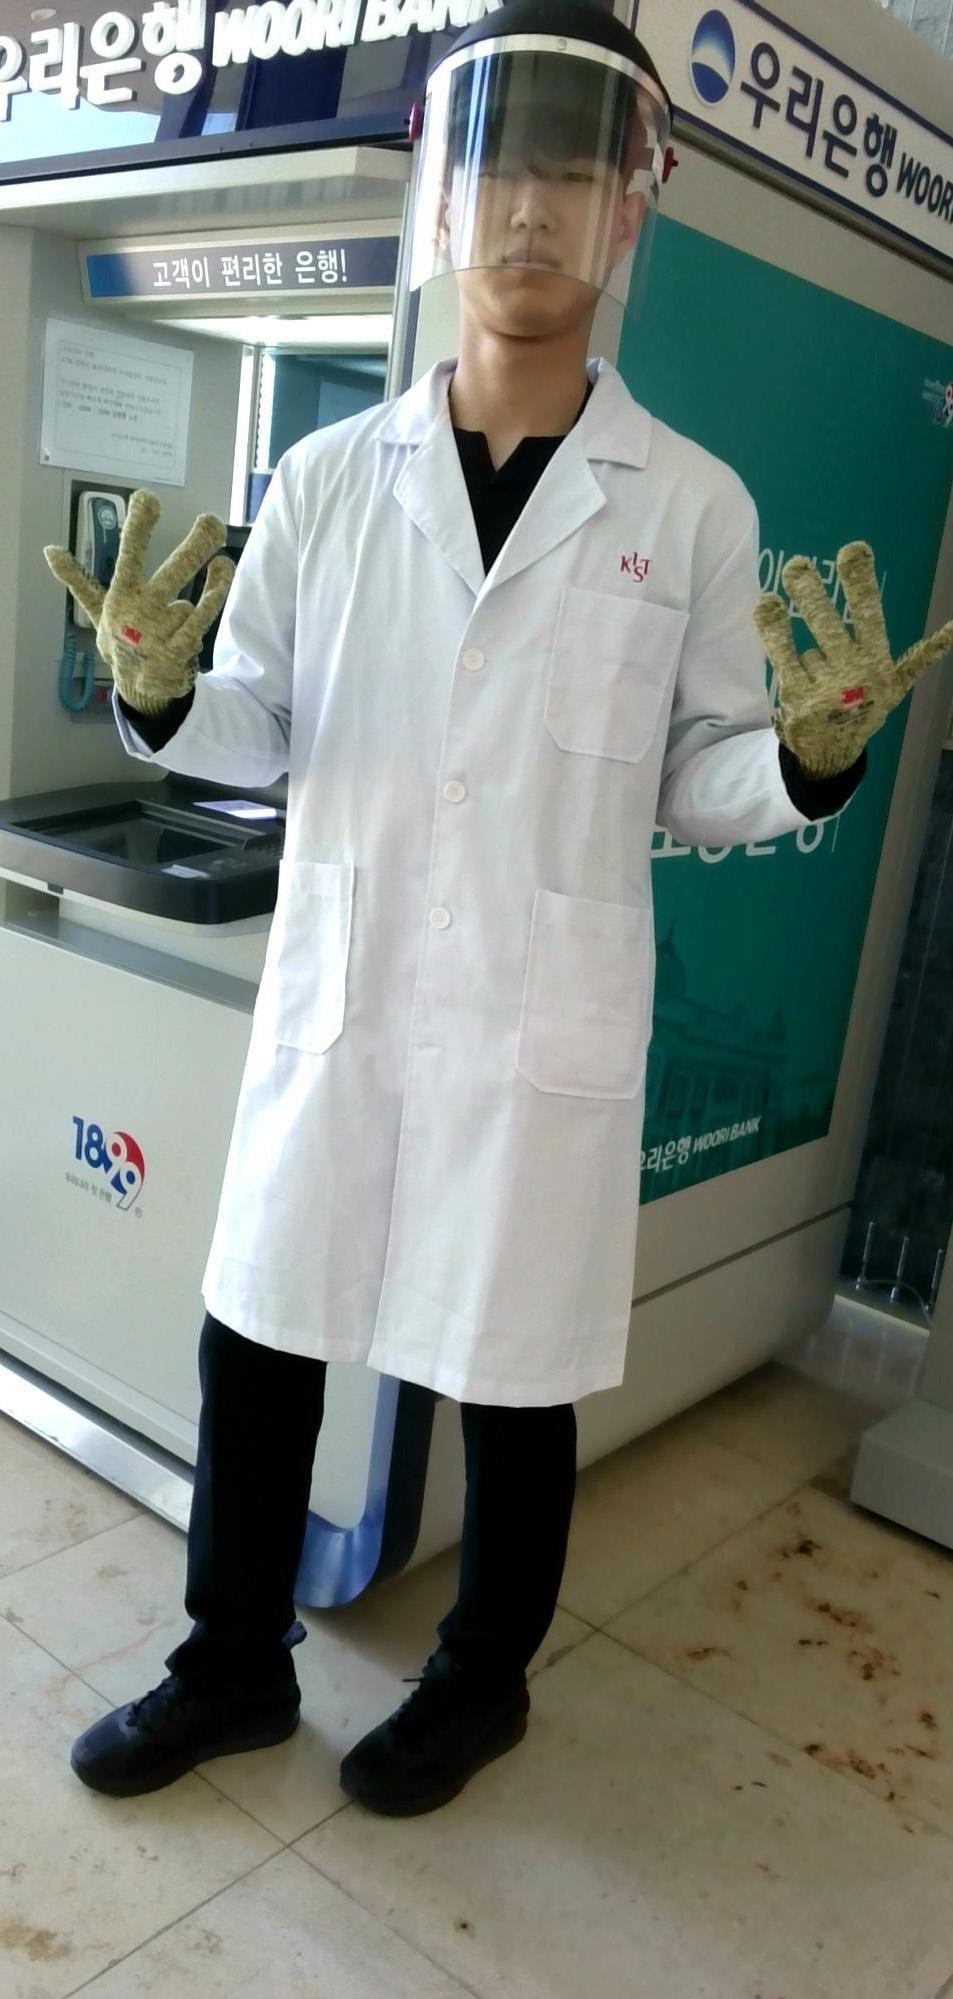lab_coat: (201, 470, 756, 1344)
